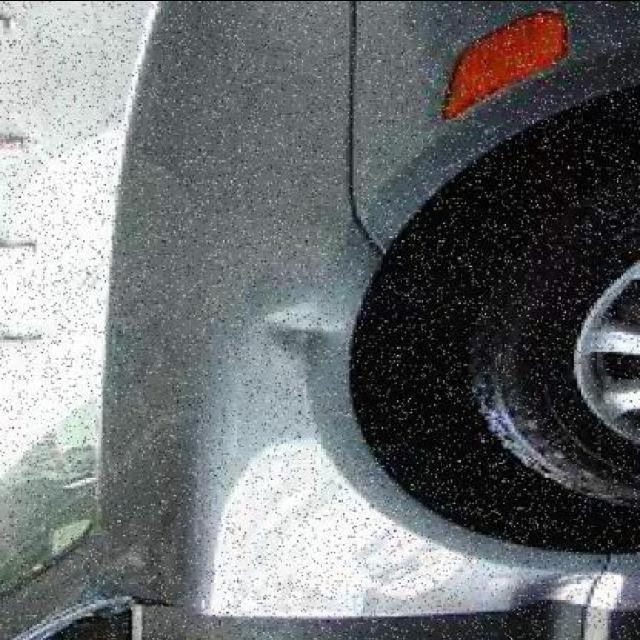fender-dent: (116, 250, 637, 613)
